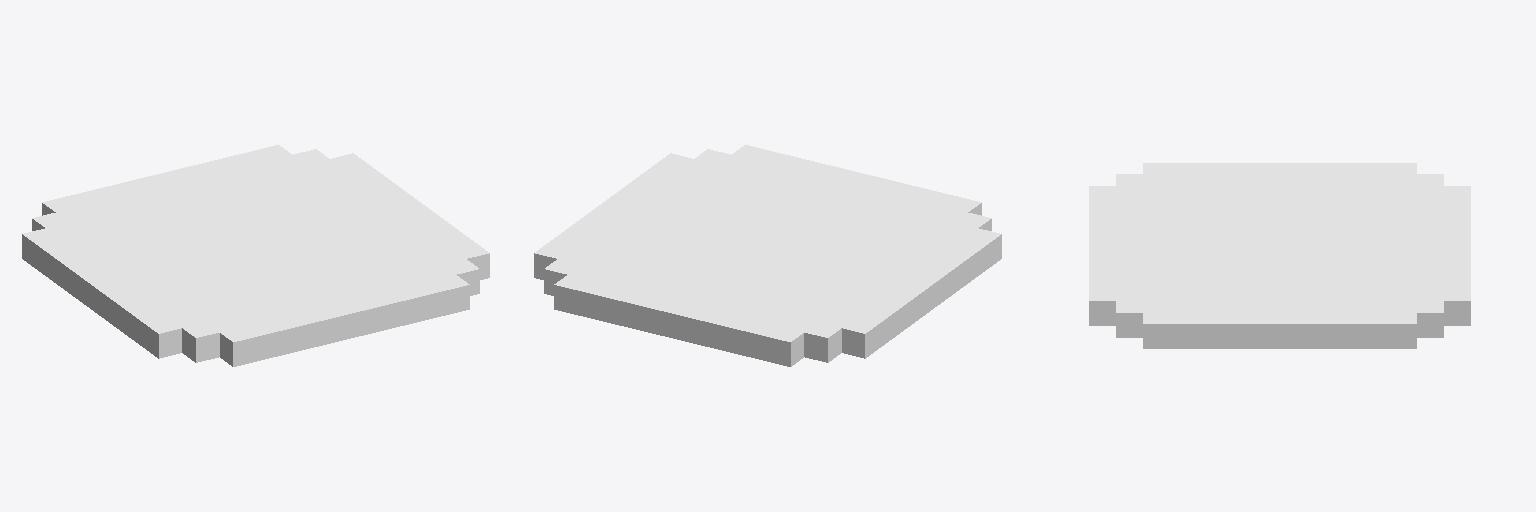
Rendered from Booster.obj.
The picture shows the model from 3 angles: view 1: azimuth 30°, elevation 25°; view 2: azimuth 150°, elevation 25°; view 3: azimuth 270°, elevation 25°; orthographic projection.
Visible parts, largest first — view 1: object 1; view 2: object 1; view 3: object 1.
Part boxes in pixels (bbox=[...]): object 1: bbox=[22, 145, 489, 366]; object 1: bbox=[534, 145, 1001, 366]; object 1: bbox=[1089, 163, 1470, 348].
Bounding box in the file's own units: 1.4 × 0.1 × 1.4.